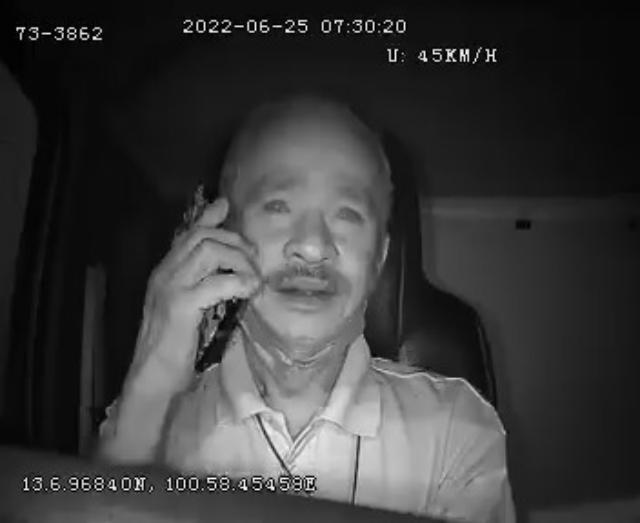PhoneUse: (170, 184, 243, 368)
SafeDriving: (322, 188, 372, 236), (254, 184, 300, 223)
